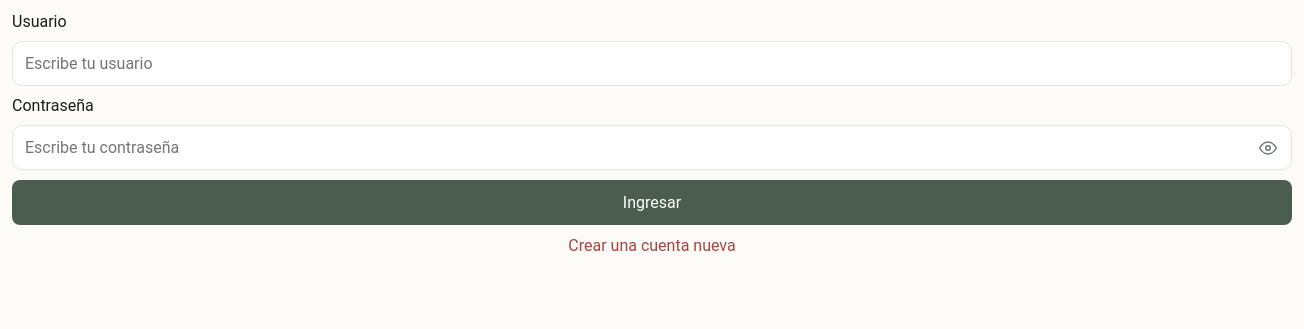
autenticación y navegación › muestra errores de credenciales y permite mostrar la contraseña
Click the button named "Mostrar contraseña" at (1268, 148), box [1248,128,1288,168]
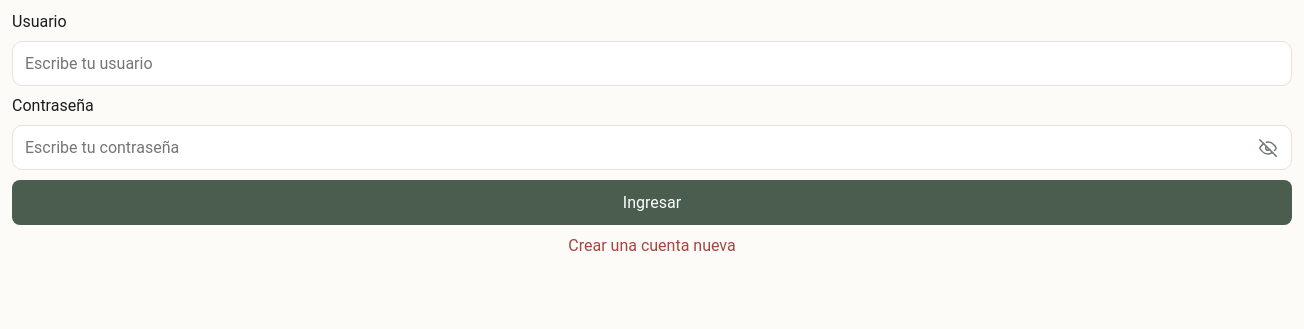
Type "ana" into the field with placeholder "Escribe tu usuario" at (652, 64), box [12,41,1292,86]
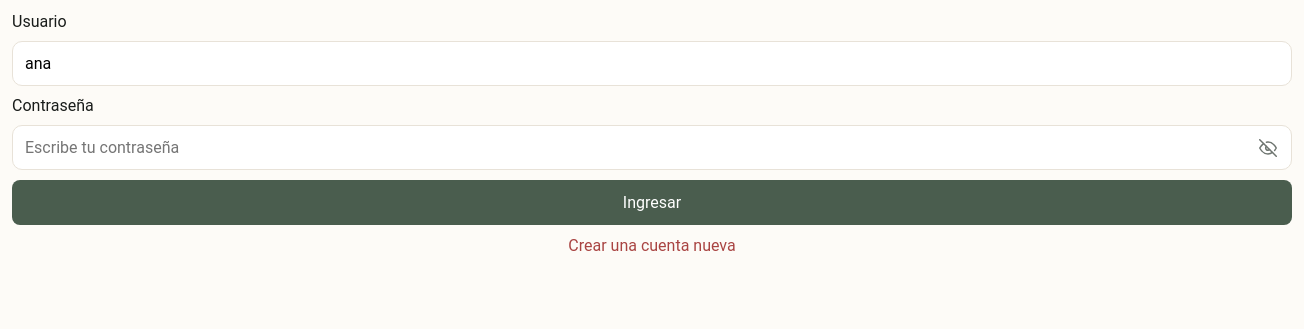
Type "incorrecta" into the field with placeholder "Escribe tu contraseña" at (652, 148), box [12,125,1292,170]
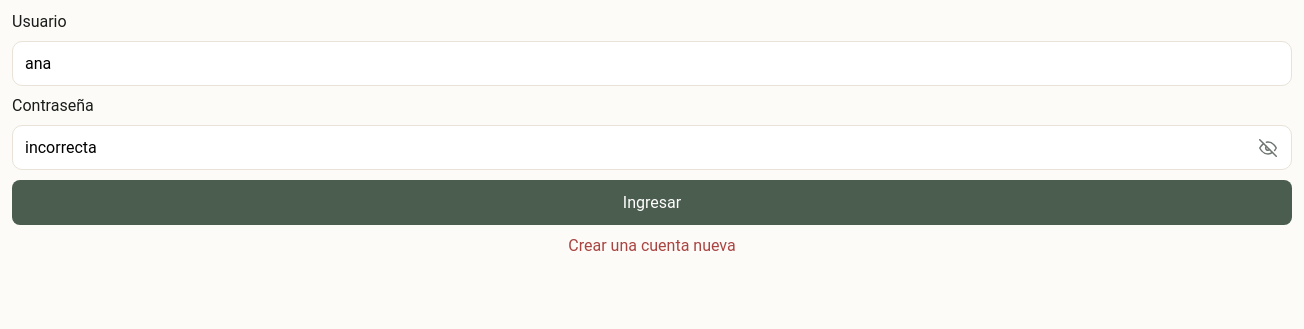
Click the button "Ingresar" at (652, 202), box [12,180,1292,225]
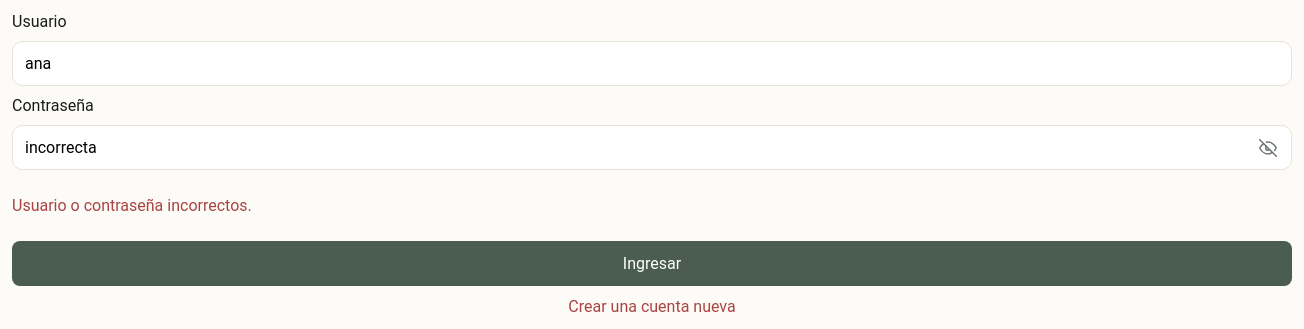
Expected: the text "Usuario o contraseña incorrectos." is shown, [12,196,252,215]
